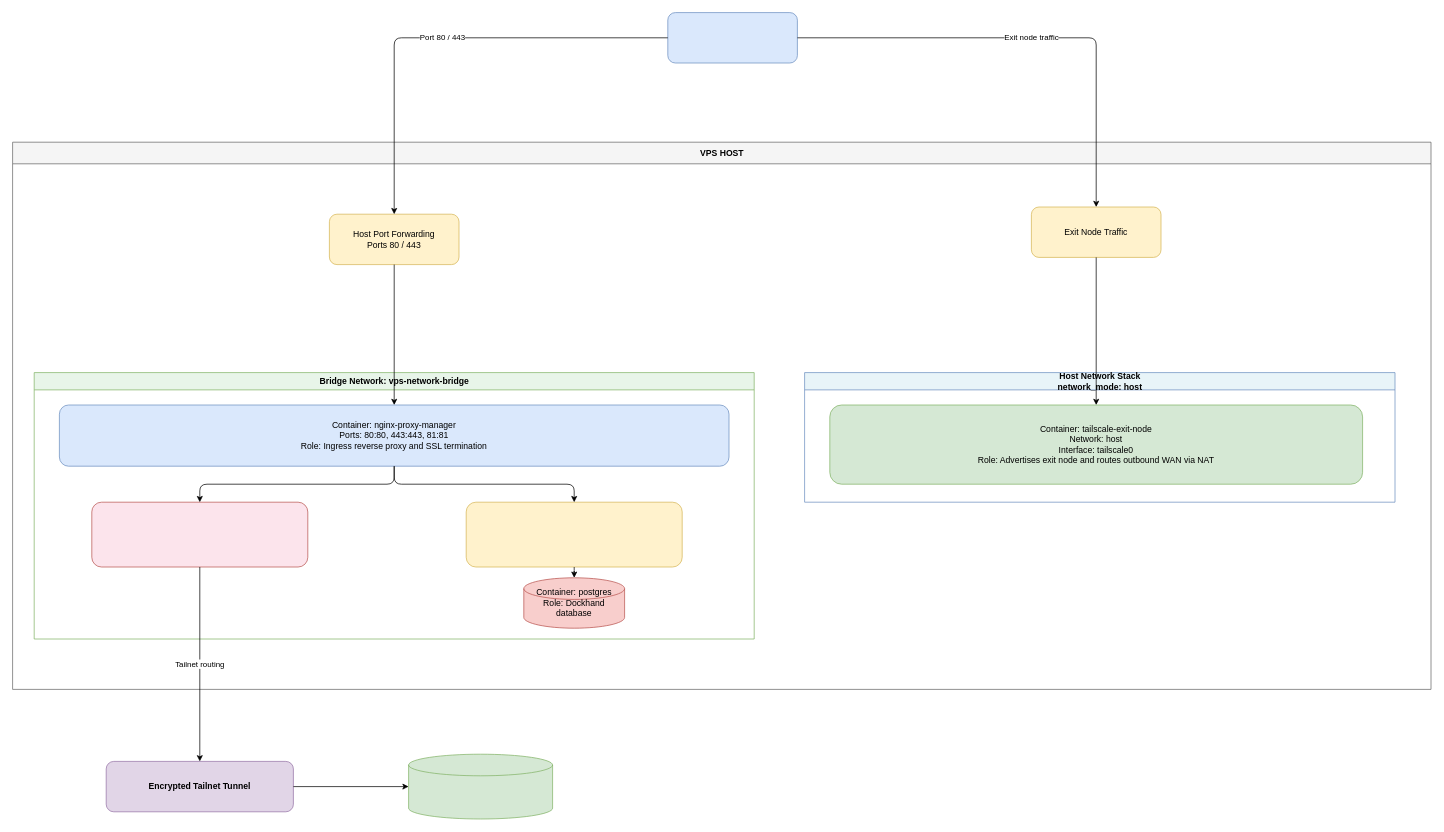
Some shapes in this 1444 by 832 pixel diagram are drawn without their labels. The shapes that lost their labels are listed below. From the top down, each one's centre as x and y in pixels, then its label:
(732,37): Public Internet Interfaces
(199,534): Container: tailscale-bridge Role: Tailnet bridge gateway Mode: Userspace
(573,534): Container: dockhand Role: Management UI Port: 3000 internal only
(480,786): Home NAS 100.x.y.z:8080
